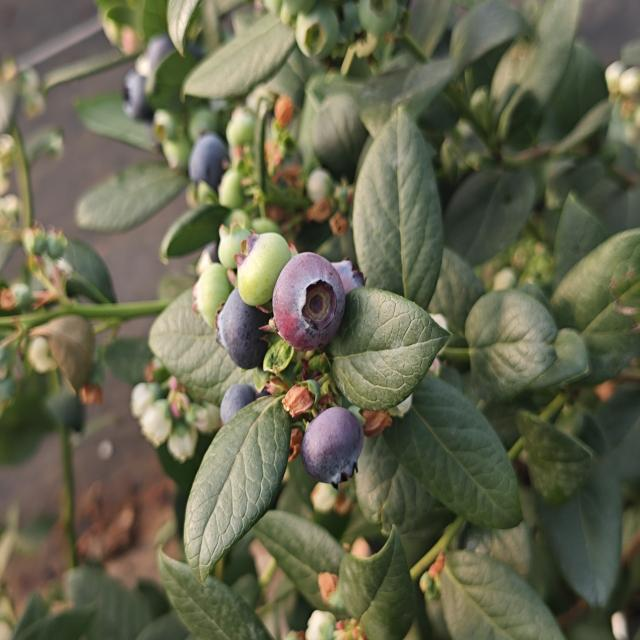ripe: (271, 250, 347, 354), (299, 405, 365, 489), (325, 245, 383, 338), (214, 286, 272, 372), (208, 378, 273, 434), (110, 72, 168, 127), (186, 131, 230, 193), (143, 29, 200, 76)
